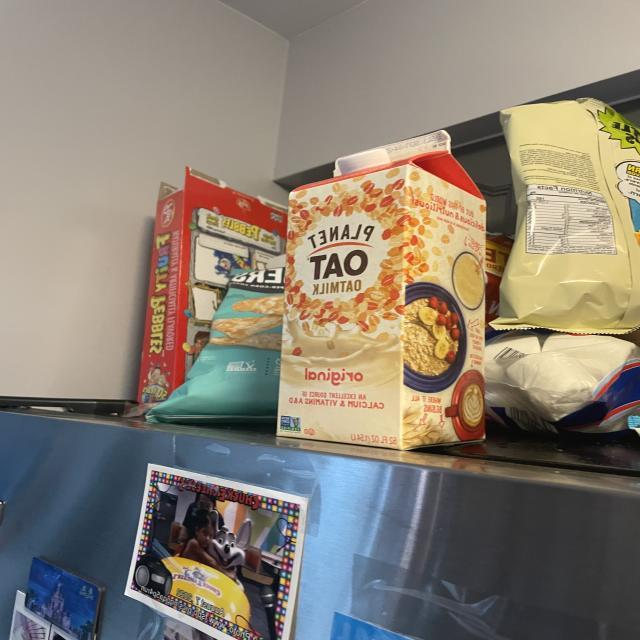Planet Oat Original: (274, 125, 490, 452)
